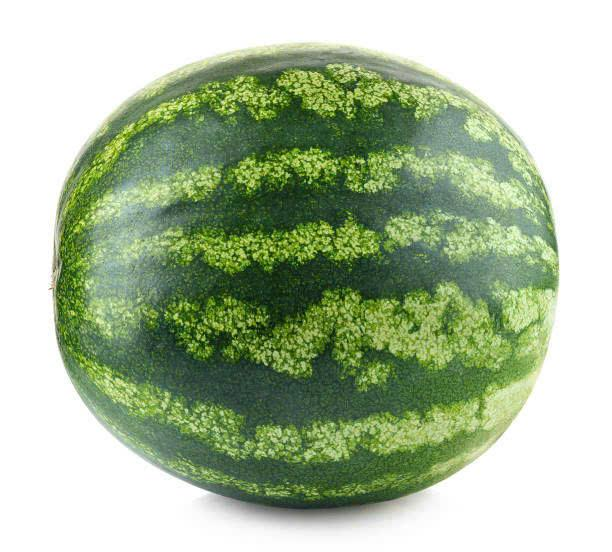watermelon: (43, 44, 576, 482)
